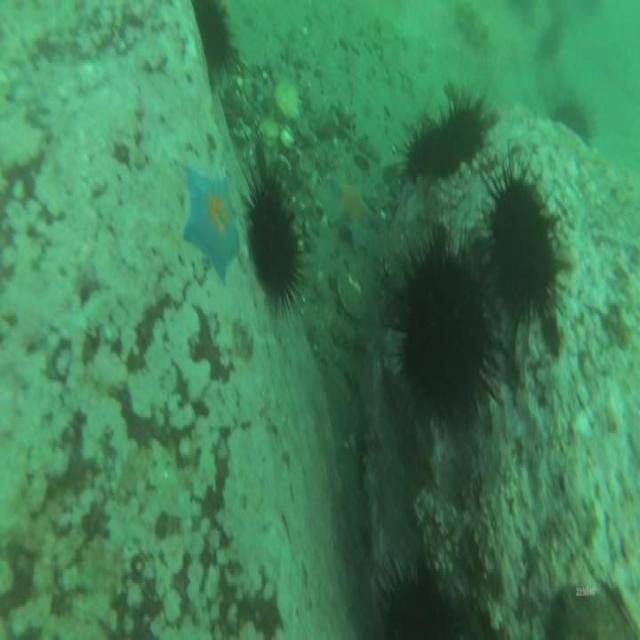echinus: (388, 222, 504, 434), (474, 150, 570, 332), (238, 160, 307, 322), (371, 551, 475, 640), (397, 110, 463, 182), (435, 80, 489, 168), (191, 0, 241, 87), (551, 88, 598, 147), (536, 16, 565, 62)
scallop: (335, 266, 370, 326)
starfish: (178, 163, 244, 284), (322, 164, 380, 256)
